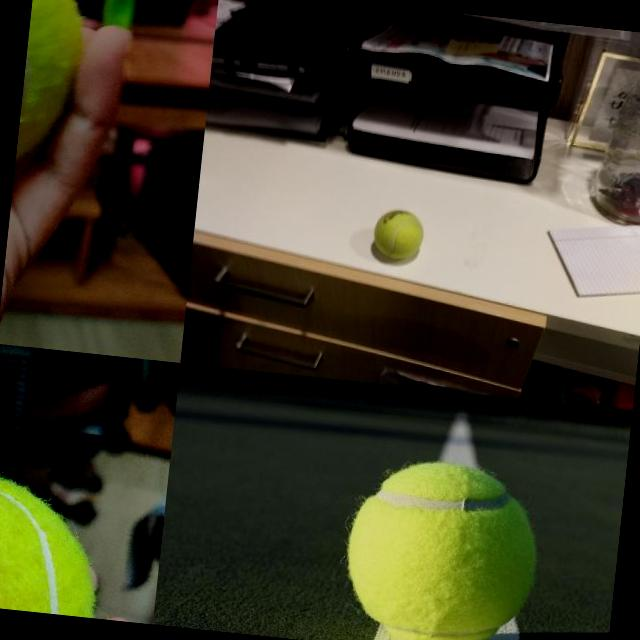Tennis Ball: (337, 453, 545, 640), (0, 472, 107, 617), (370, 207, 425, 261)
